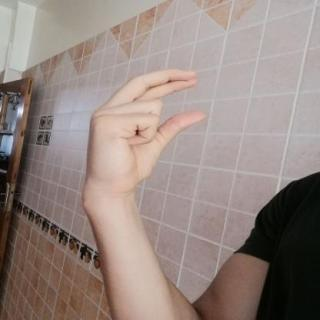DHELL: (76, 64, 214, 198)
